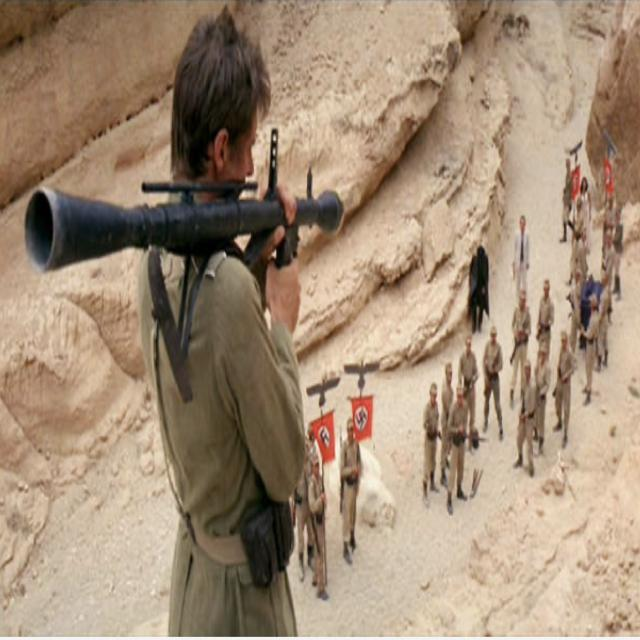bazooka: (17, 180, 349, 279)
